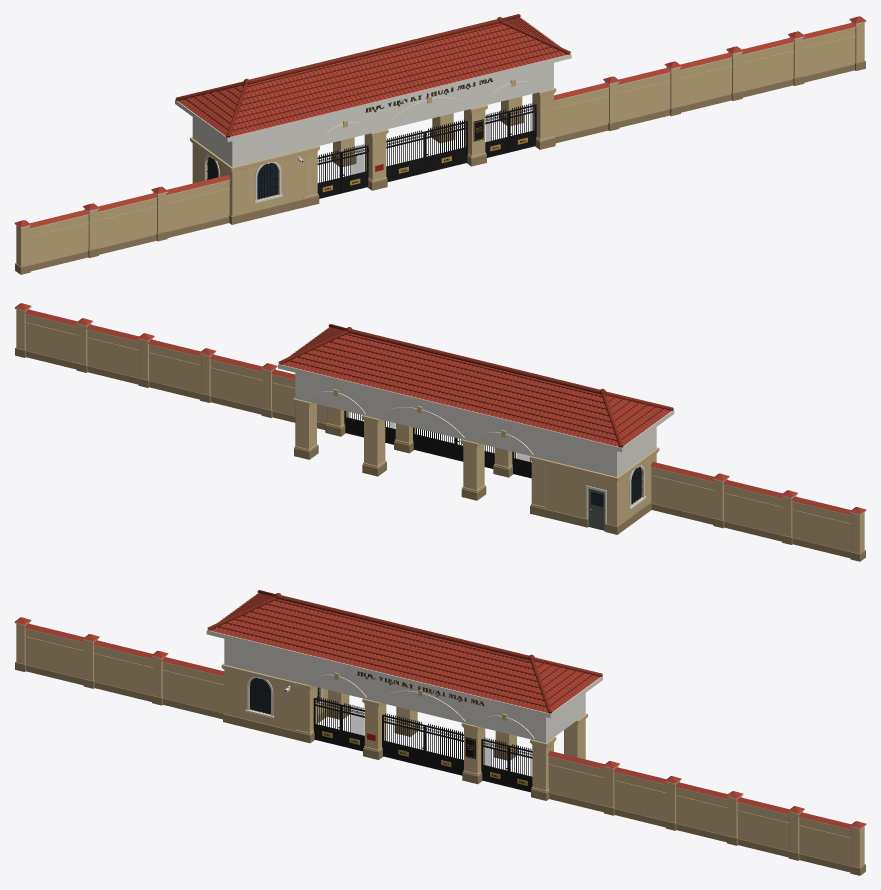
The model's file is KMA_Gate.fbx.
3 views of the same model, one above another, from view 1: azimuth 30°, elevation 25°; view 2: azimuth 150°, elevation 25°; view 3: azimuth 330°, elevation 25° (orthographic).
Parts seen in each view (by area): view 1: KMA_Roof, KMA_Wall_Right, KMA_Structure, KMA_Wall_Left, KMA_Guardhouse, KMA_Gate_C_Right, KMA_Gate_C_Left, KMA_Gate_L_Right, KMA_Gate_R_Right, KMA_Gate_R_Left, KMA_Gate_L_Left, KMA_Signage; view 2: KMA_Roof, KMA_Wall_Right, KMA_Structure, KMA_Wall_Left, KMA_Guardhouse, KMA_Gate_C_Right; view 3: KMA_Roof, KMA_Wall_Right, KMA_Structure, KMA_Wall_Left, KMA_Guardhouse, KMA_Gate_C_Left, KMA_Gate_C_Right, KMA_Gate_R_Left, KMA_Gate_L_Left, KMA_Gate_L_Right, KMA_Gate_R_Right, KMA_Signage.
Boxes of the visible parts, x1,y1,x2,y2 form: KMA_Roof: [175, 14, 571, 142]; KMA_Wall_Right: [554, 16, 866, 143]; KMA_Structure: [303, 63, 556, 207]; KMA_Wall_Left: [14, 175, 230, 274]; KMA_Guardhouse: [190, 117, 304, 224]; KMA_Gate_C_Right: [425, 119, 467, 172]; KMA_Gate_C_Left: [386, 130, 425, 181]; KMA_Gate_L_Right: [341, 144, 368, 193]; KMA_Gate_R_Right: [509, 103, 536, 152]; KMA_Gate_R_Left: [485, 109, 508, 157]; KMA_Gate_L_Left: [317, 150, 341, 198]; KMA_Signage: [365, 78, 492, 171]; KMA_Roof: [278, 324, 674, 452]; KMA_Wall_Right: [14, 303, 326, 429]; KMA_Structure: [293, 372, 545, 517]; KMA_Wall_Left: [650, 462, 866, 561]; KMA_Guardhouse: [544, 427, 659, 534]; KMA_Gate_C_Right: [413, 427, 455, 459]; KMA_Roof: [206, 590, 602, 718]; KMA_Wall_Right: [547, 751, 866, 875]; KMA_Structure: [294, 656, 587, 800]; KMA_Wall_Left: [14, 617, 224, 719]; KMA_Guardhouse: [221, 638, 327, 739]; KMA_Gate_C_Left: [382, 713, 424, 766]; KMA_Gate_C_Right: [425, 723, 463, 775]; KMA_Gate_R_Left: [481, 737, 508, 786]; KMA_Gate_L_Left: [313, 696, 341, 745]; KMA_Gate_L_Right: [341, 703, 364, 751]; KMA_Gate_R_Right: [508, 744, 532, 792]; KMA_Signage: [357, 671, 484, 759].
Bounding box in the file's own units: 49.46 × 6.85 × 5.34.
